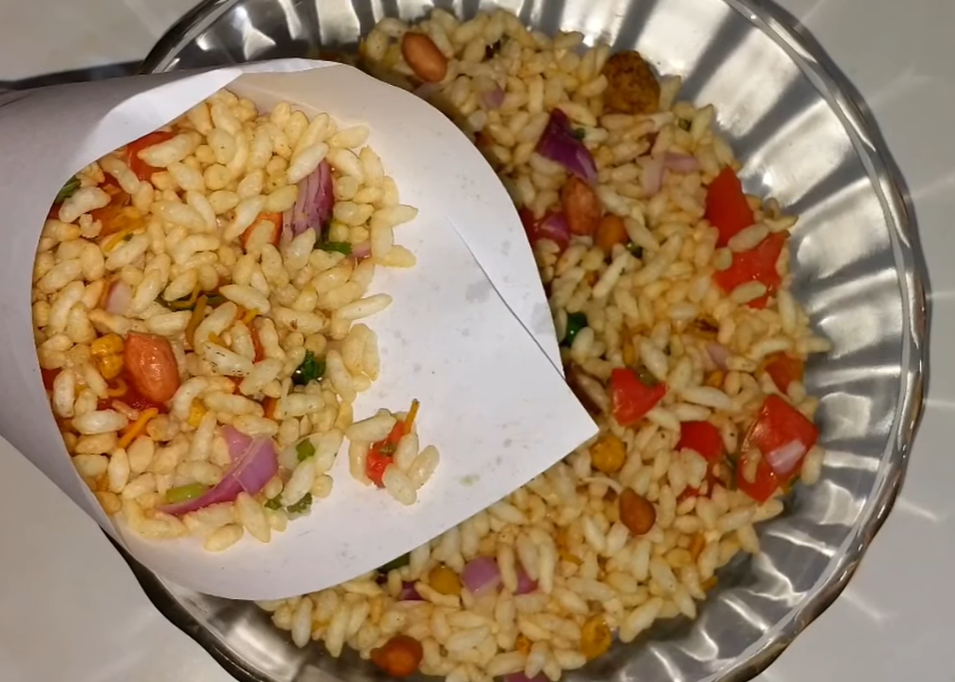chatpate: (68, 157, 425, 502), (603, 65, 768, 593)
